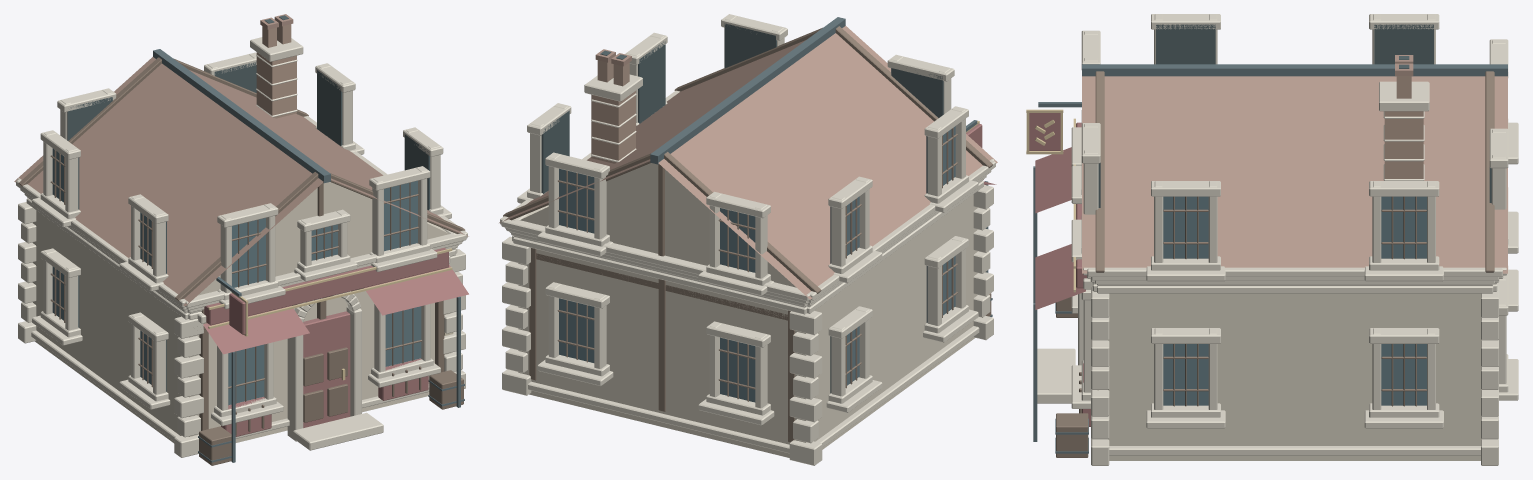
File: Tavern.glb
3 views of the same model, side by side, from view 1: azimuth 30°, elevation 25°; view 2: azimuth 150°, elevation 25°; view 3: azimuth 270°, elevation 25° (orthographic). The views are drawn at different scales.
Visible parts, largest first — view 1: Tavern_limestone, Tavern_tile, Tavern_plaster, Tavern_burgundy, Tavern_oak, Tavern_glass, Tavern_dark, Tavern_iron, Tavern_brick, Tavern_brass; view 2: Tavern_limestone, Tavern_plaster, Tavern_tile, Tavern_oak, Tavern_glass, Tavern_dark, Tavern_brick, Tavern_iron; view 3: Tavern_tile, Tavern_limestone, Tavern_plaster, Tavern_glass, Tavern_oak, Tavern_iron, Tavern_burgundy, Tavern_dark, Tavern_brick, Tavern_brass.
Part boxes in pixels (x1=…): Tavern_limestone: x1=16, y1=37, x2=467, y2=457; Tavern_tile: x1=14, y1=14, x2=468, y2=306; Tavern_plaster: x1=32, y1=182, x2=451, y2=443; Tavern_burgundy: x1=203, y1=247, x2=468, y2=436; Tavern_oak: x1=18, y1=57, x2=465, y2=465; Tavern_glass: x1=52, y1=148, x2=421, y2=405; Tavern_dark: x1=67, y1=15, x2=429, y2=391; Tavern_iron: x1=153, y1=49, x2=464, y2=462; Tavern_brick: x1=256, y1=24, x2=296, y2=118; Tavern_brass: x1=208, y1=248, x2=452, y2=380; Tavern_limestone: x1=500, y1=14, x2=995, y2=465; Tavern_plaster: x1=518, y1=163, x2=977, y2=457; Tavern_tile: x1=499, y1=26, x2=997, y2=299; Tavern_oak: x1=503, y1=26, x2=992, y2=442; Tavern_glass: x1=559, y1=126, x2=955, y2=402; Tavern_dark: x1=541, y1=23, x2=943, y2=393; Tavern_brick: x1=591, y1=60, x2=635, y2=163; Tavern_iron: x1=650, y1=17, x2=992, y2=316; Tavern_tile: x1=1082, y1=55, x2=1507, y2=273; Tavern_limestone: x1=1037, y1=14, x2=1518, y2=465; Tavern_plaster: x1=1108, y1=293, x2=1481, y2=460; Tavern_glass: x1=1163, y1=196, x2=1426, y2=405; Tavern_oak: x1=1056, y1=71, x2=1494, y2=457; Tavern_iron: x1=1033, y1=64, x2=1507, y2=453; Tavern_burgundy: x1=1029, y1=113, x2=1090, y2=426; Tavern_dark: x1=1098, y1=24, x2=1491, y2=258; Tavern_brick: x1=1384, y1=76, x2=1423, y2=178; Tavern_brass: x1=1026, y1=109, x2=1075, y2=292.
Size of the model in its own units: 6.68 by 6.34 by 7.58.
